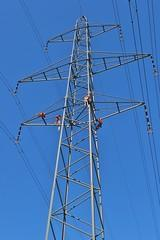power_tower: (14, 16, 152, 240)
